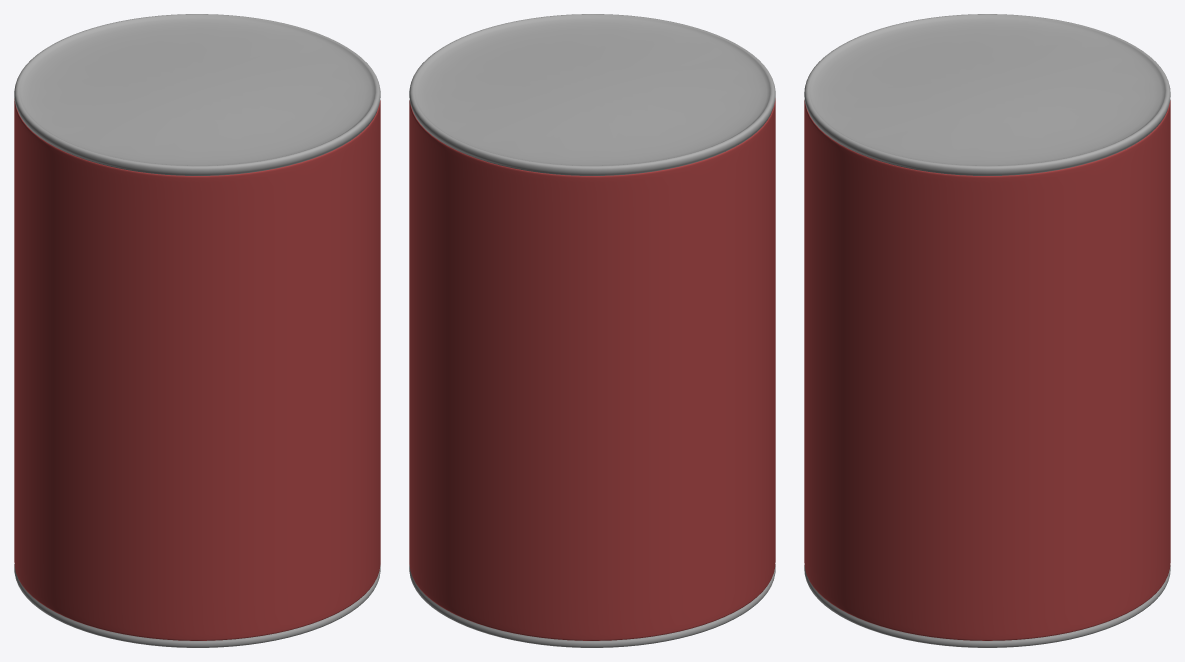
The model's file is can_food.fbx.
3 views of the same model, side by side, from view 1: azimuth 30°, elevation 25°; view 2: azimuth 150°, elevation 25°; view 3: azimuth 270°, elevation 25° (orthographic).
Parts seen in each view (by area): view 1: new_can_food; view 2: new_can_food; view 3: new_can_food.
Part boxes in pixels (x1,y1,x2,y2): new_can_food: (14, 14, 380, 647); new_can_food: (409, 14, 775, 647); new_can_food: (804, 14, 1170, 647).
Size of the model in its own units: 1.99 by 2.9 by 1.99.
